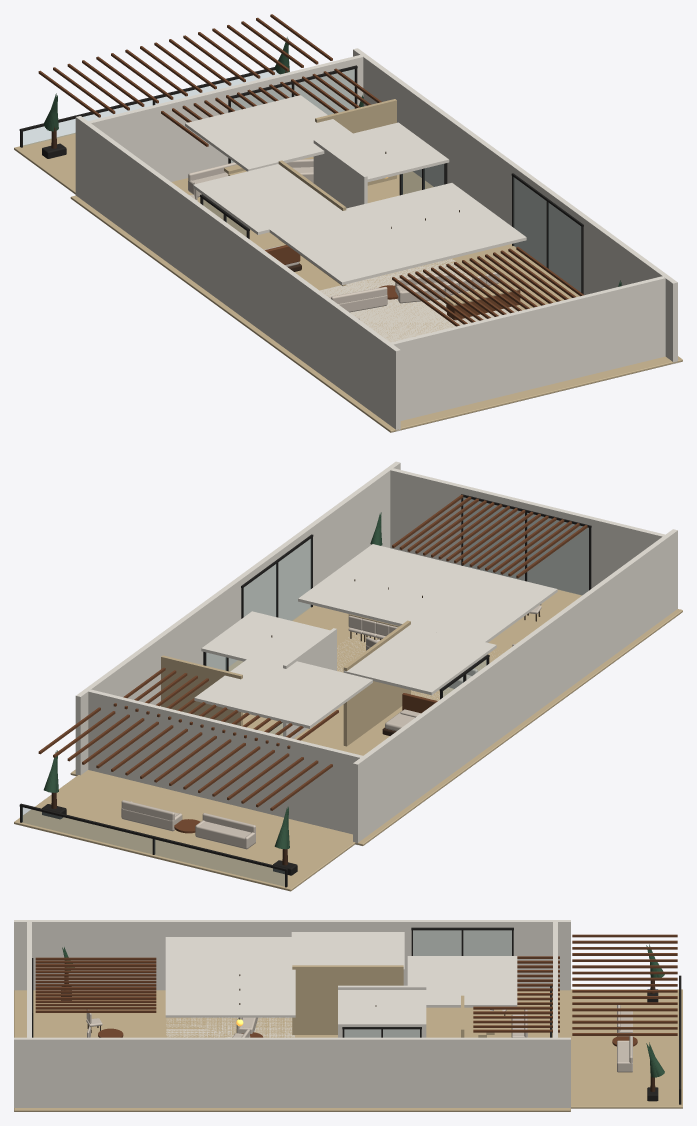
Rendered from kaydan-villa.glb.
3 views of the same model, one above another, from view 1: azimuth 30°, elevation 25°; view 2: azimuth 150°, elevation 25°; view 3: azimuth 270°, elevation 25° (orthographic). The views are drawn at different scales.
Visible parts, largest first — view 1: Architectural wall (×6), Floating ceiling (×4), Stone floor (×3), Full-height glazing (×4), Deep lounge sofa (×2); view 2: Architectural wall (×7), Floating ceiling (×4), Stone floor (×2), Full-height glazing (×3), Deep lounge sofa (×2); view 3: Architectural wall (×6), Stone floor (×3), Floating ceiling (×4), Timber ceiling slat (×38), Full-height glazing (×3), Deep lounge sofa.
Boxes of the visible parts, x1=… form: Architectural wall (×6): x1=75, y1=48, x2=677, y2=431; Floating ceiling (×4): x1=185, y1=95, x2=526, y2=285; Stone floor (×3): x1=14, y1=133, x2=682, y2=432; Full-height glazing (×4): x1=19, y1=65, x2=583, y2=294; Deep lounge sofa (×2): x1=329, y1=273, x2=454, y2=312; Architectural wall (×7): x1=75, y1=461, x2=677, y2=844; Floating ceiling (×4): x1=194, y1=544, x2=557, y2=728; Stone floor (×2): x1=14, y1=589, x2=682, y2=891; Full-height glazing (×3): x1=19, y1=494, x2=591, y2=887; Deep lounge sofa (×2): x1=121, y1=800, x2=255, y2=849; Architectural wall (×6): x1=14, y1=920, x2=570, y2=1107; Stone floor (×3): x1=14, y1=989, x2=682, y2=1111; Floating ceiling (×4): x1=165, y1=932, x2=517, y2=1026; Timber ceiling slat (×38): x1=35, y1=934, x2=677, y2=1035; Full-height glazing (×3): x1=342, y1=927, x2=681, y2=1104; Deep lounge sofa: x1=617, y1=1036, x2=632, y2=1072.
Size of the model in its own units: 19 by 5.01 by 43.25.
